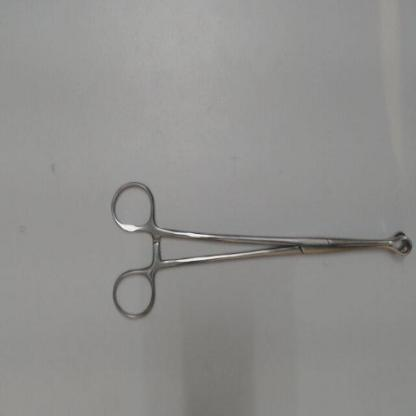8 Babcock Tissue Forceps: (106, 172, 414, 325)
